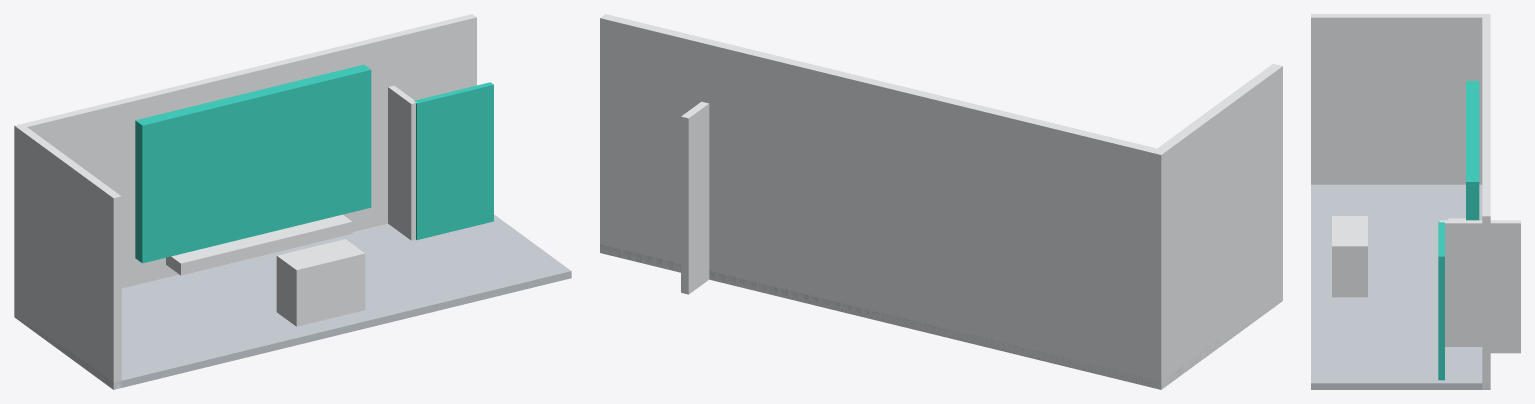
3 renders of one model, left to right at view 1: azimuth 30°, elevation 25°; view 2: azimuth 150°, elevation 25°; view 3: azimuth 270°, elevation 25°, orthographic. The views are drawn at different scales.
Parts seen in each view (by area): view 1: Exhibition Booth Concept; view 2: Exhibition Booth Concept; view 3: Exhibition Booth Concept.
Part boxes in pixels (box(x1,y1,x2,y2)): Exhibition Booth Concept: box(14, 14, 571, 389); Exhibition Booth Concept: box(600, 14, 1282, 389); Exhibition Booth Concept: box(1311, 14, 1520, 389).
Bounding box in the file's own units: 8 × 3.2 × 3.51.
